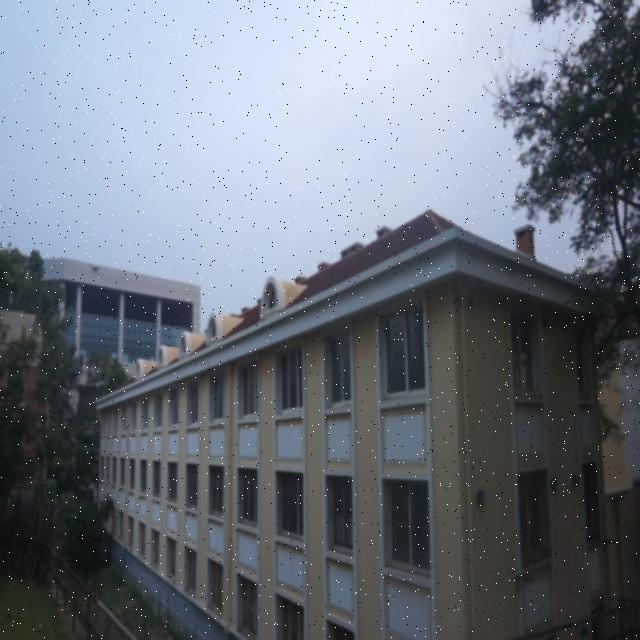UAV: (89, 264, 101, 274)
